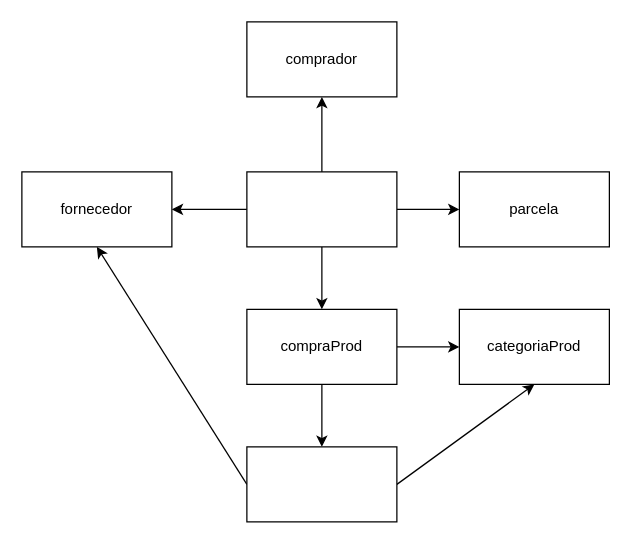
Image size: 631x544. Some labels were removed from this diagram. The shapes that lost their labels are listed below. From the top down, each one's box as (x1, y1, x2, y2) in pixels, then its label:
(246, 171, 397, 247): compra
(246, 446, 397, 522): produto
